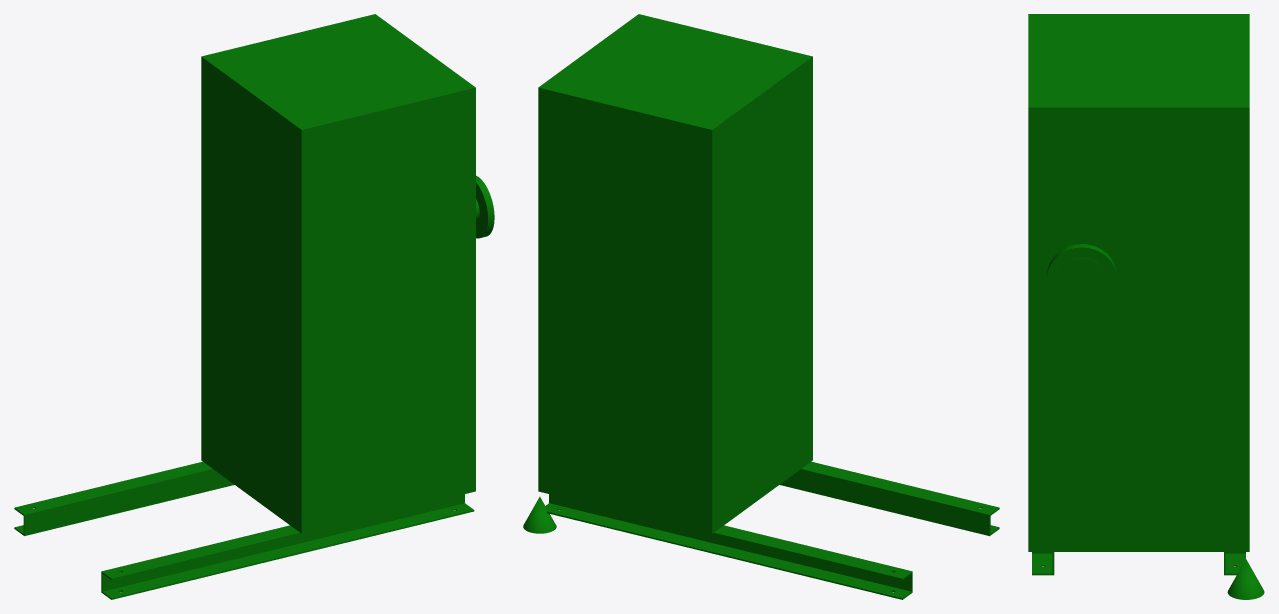
The model's file is Image-1710907666390-2280616980464_71-SM52N.fbx.
3 renders of one model, left to right at view 1: azimuth 30°, elevation 25°; view 2: azimuth 150°, elevation 25°; view 3: azimuth 270°, elevation 25°, orthographic. The views are drawn at different scales.
Visible parts, largest first — view 1: BOX 1 of EQUIPMENT /71-SM52N, BOX 5 of EQUIPMENT /71-SM52N, BOX 6 of EQUIPMENT /71-SM52N, BOX 4 of EQUIPMENT /71-SM52N, BOX 2 of EQUIPMENT /71-SM52N, BOX 3 of EQUIPMENT /71-SM52N, /71-SM52N-N1; view 2: BOX 1 of EQUIPMENT /71-SM52N, BOX 4 of EQUIPMENT /71-SM52N, BOX 7 of EQUIPMENT /71-SM52N, BOX 5 of EQUIPMENT /71-SM52N, BOX 3 of EQUIPMENT /71-SM52N, BOX 2 of EQUIPMENT /71-SM52N, SNOUT 1 of EQUIPMENT /71-SM52N; view 3: BOX 1 of EQUIPMENT /71-SM52N, /71-SM52N-N1, SNOUT 1 of EQUIPMENT /71-SM52N, BOX 6 of EQUIPMENT /71-SM52N, BOX 7 of EQUIPMENT /71-SM52N.
Boxes of the visible parts, box(x1,y1,x2,y2) form: BOX 1 of EQUIPMENT /71-SM52N: box(201, 14, 475, 533); BOX 5 of EQUIPMENT /71-SM52N: box(23, 470, 234, 535); BOX 6 of EQUIPMENT /71-SM52N: box(101, 503, 474, 599); BOX 4 of EQUIPMENT /71-SM52N: box(101, 494, 464, 591); BOX 2 of EQUIPMENT /71-SM52N: box(101, 525, 301, 580); BOX 3 of EQUIPMENT /71-SM52N: box(14, 461, 213, 515); /71-SM52N-N1: box(476, 175, 494, 238); BOX 1 of EQUIPMENT /71-SM52N: box(538, 14, 812, 533); BOX 4 of EQUIPMENT /71-SM52N: box(779, 469, 990, 535); BOX 7 of EQUIPMENT /71-SM52N: box(545, 503, 912, 599); BOX 5 of EQUIPMENT /71-SM52N: box(549, 494, 912, 591); BOX 3 of EQUIPMENT /71-SM52N: box(713, 525, 912, 579); BOX 2 of EQUIPMENT /71-SM52N: box(800, 461, 999, 515); SNOUT 1 of EQUIPMENT /71-SM52N: box(523, 496, 556, 533); BOX 1 of EQUIPMENT /71-SM52N: box(1028, 14, 1249, 551); /71-SM52N-N1: box(1047, 244, 1116, 310); SNOUT 1 of EQUIPMENT /71-SM52N: box(1227, 559, 1264, 599); BOX 6 of EQUIPMENT /71-SM52N: box(1032, 553, 1052, 575); BOX 7 of EQUIPMENT /71-SM52N: box(1225, 553, 1245, 575).
Bounding box in the file's own units: 1.35 × 0.64 × 1.45.
